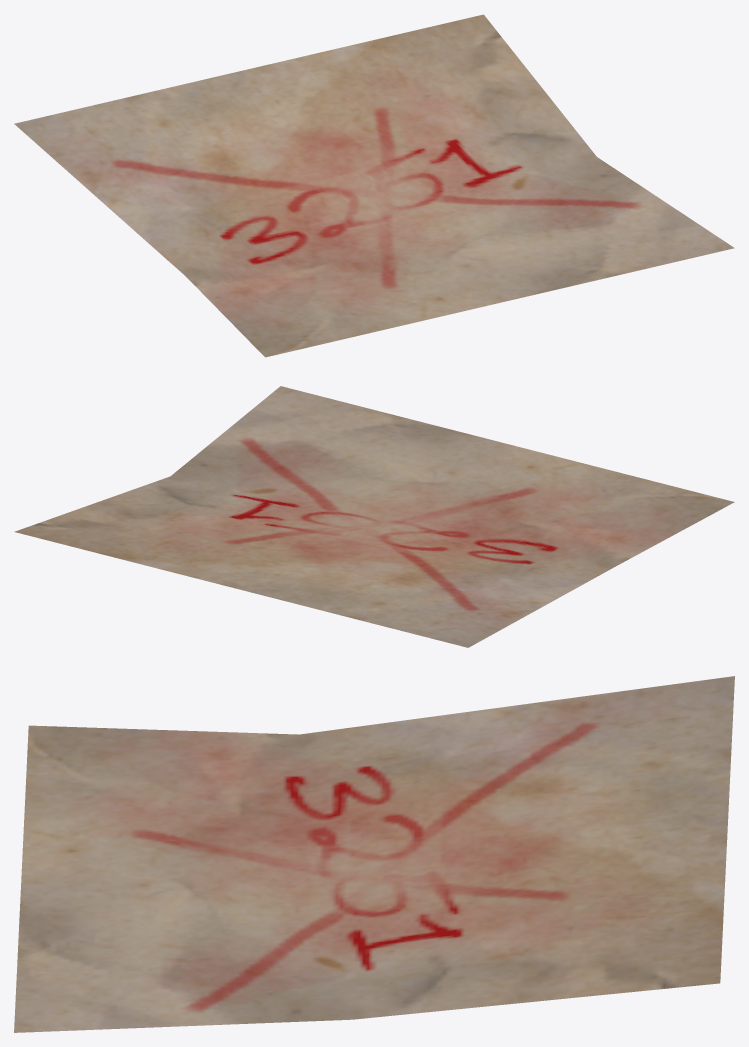
File: WrongCode.FBX
3 views of the same model, one above another, from view 1: azimuth 30°, elevation 25°; view 2: azimuth 150°, elevation 25°; view 3: azimuth 270°, elevation 25° (orthographic). The views are drawn at different scales.
Parts seen in each view (by area): view 1: WrongCode; view 2: WrongCode; view 3: WrongCode.
Part boxes in pixels (x1,y1,x2,y2): WrongCode: (14,14,734,357); WrongCode: (14,386,734,647); WrongCode: (14,676,734,1032).
Bounding box in the file's own units: 13.39 × 1.11 × 13.01.
